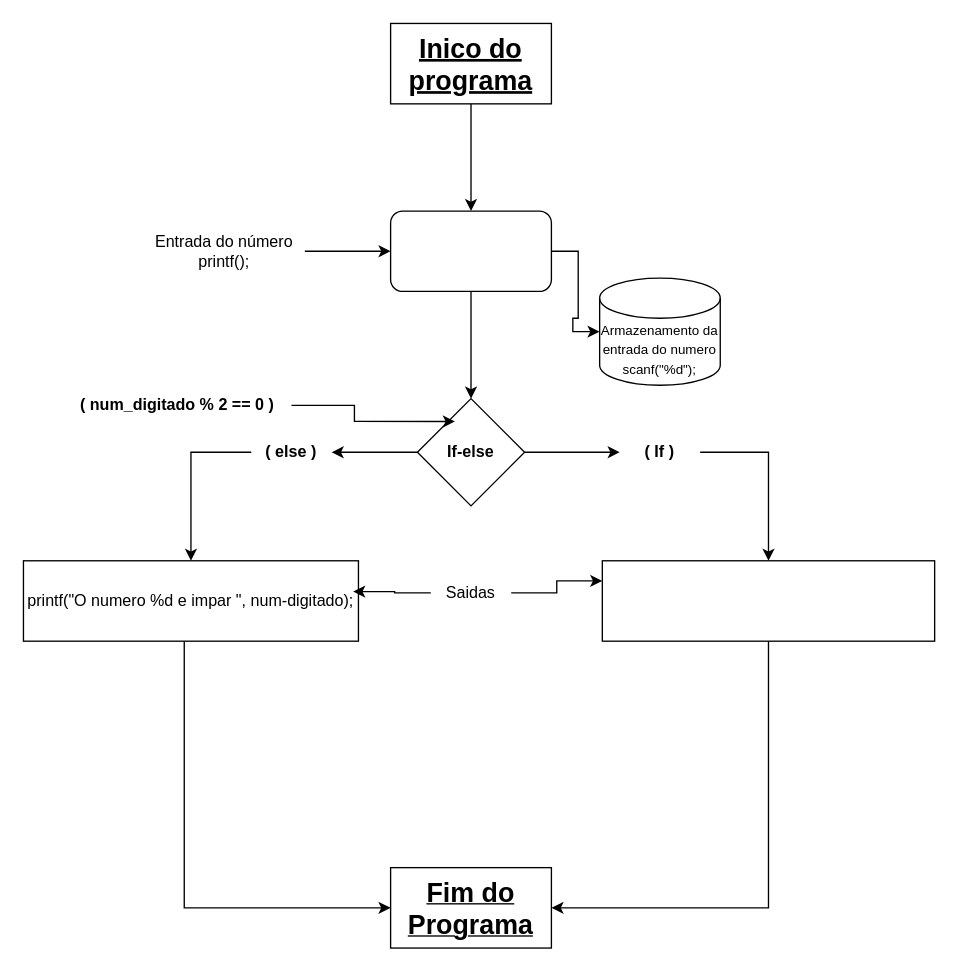
Image size: 958x972. Some labels were removed from this diagram. The shapes that lost their labels are listed below. From the top down, each one's centre as x and y in pixels, then its label:
pixel 470 250: num_digitado
pixel 768 600: printf("O numero %d e par ", num-digitado);
